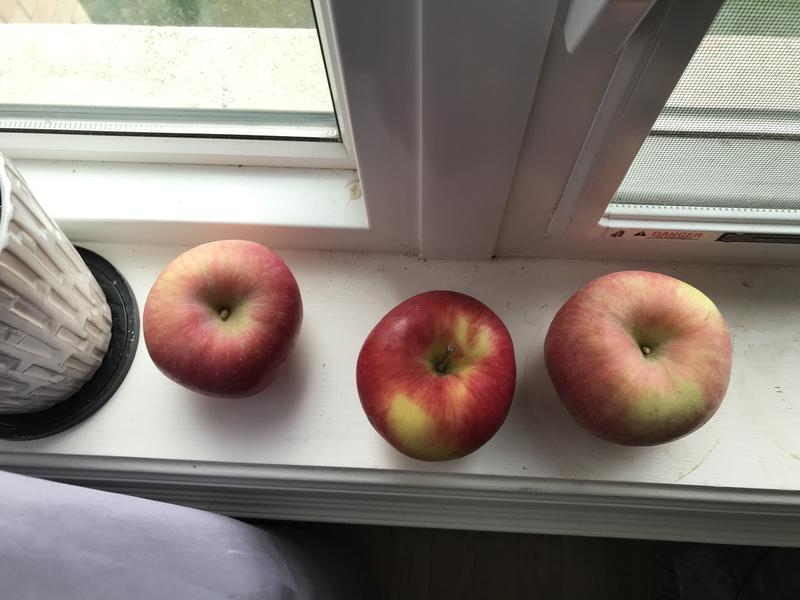red_apple: (538, 263, 742, 457), (347, 284, 522, 471), (138, 232, 309, 407)
